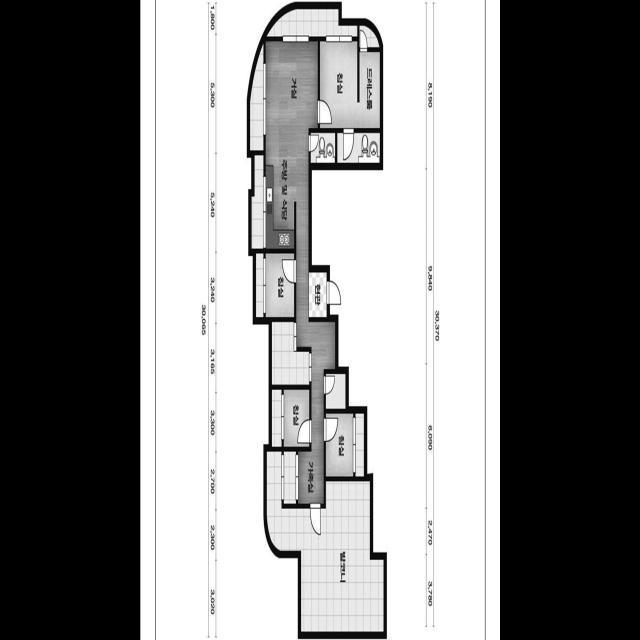background: (140, 0, 500, 640)
space_balconi: (266, 452, 383, 632), (266, 9, 357, 36), (271, 322, 309, 385), (250, 44, 263, 150), (251, 155, 263, 249), (355, 414, 364, 476), (272, 389, 281, 447), (255, 253, 263, 317), (359, 26, 379, 47)
space_bedroom: (320, 41, 357, 128), (265, 254, 294, 317), (325, 413, 353, 476), (283, 390, 309, 447)
space_dressroom: (359, 52, 380, 128)
space_front: (308, 273, 326, 317)
space_kitchen: (265, 149, 294, 248)
space_living_room: (265, 41, 335, 504)
space_other: (325, 374, 345, 409)
space_toilet: (337, 133, 380, 163), (310, 133, 335, 163)
